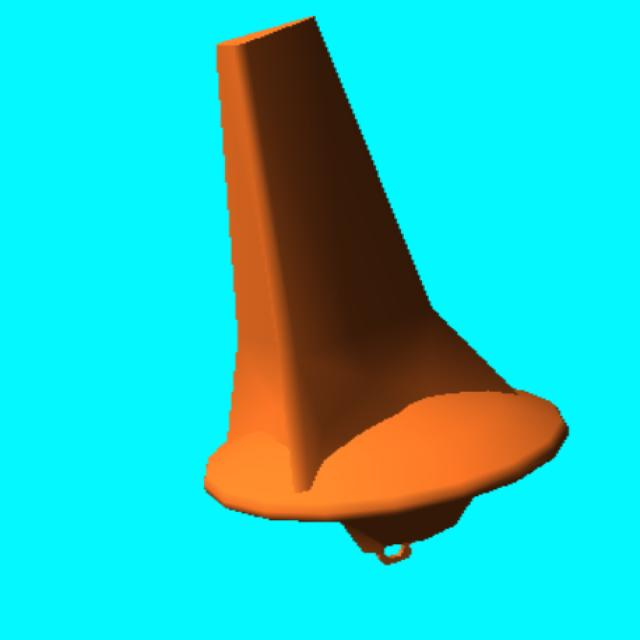OrangeBuoy: (205, 18, 567, 562)
